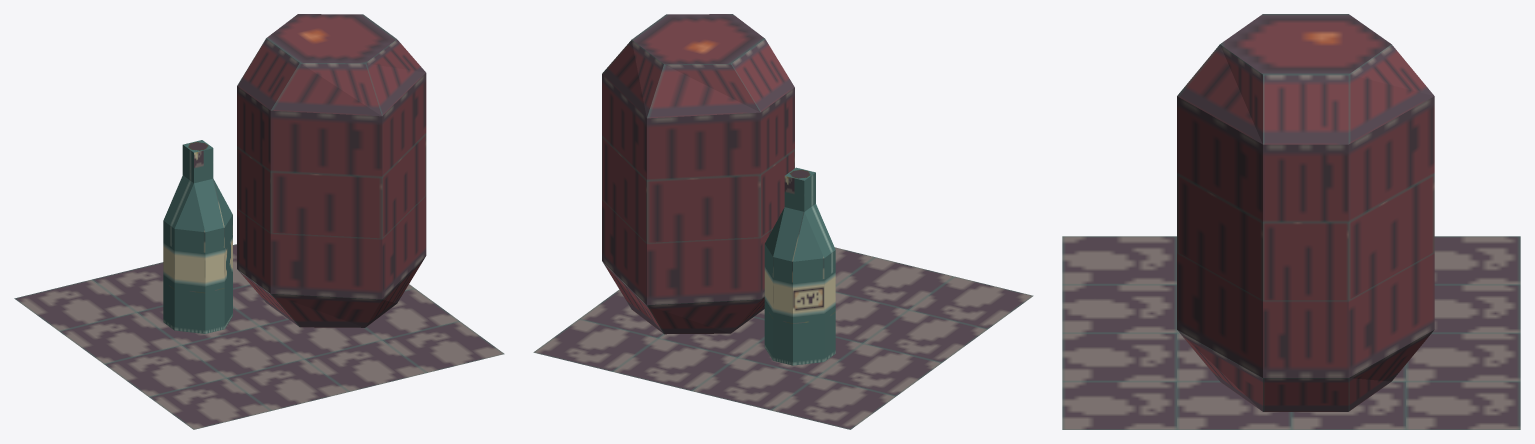
The model's file is tono.obj.
3 views of the same model, side by side, from view 1: azimuth 30°, elevation 25°; view 2: azimuth 150°, elevation 25°; view 3: azimuth 270°, elevation 25° (orthographic). The views are drawn at different scales.
Visible parts, largest first — view 1: tono; view 2: tono; view 3: tono.
Part boxes in pixels (x1=…): tono: x1=14, y1=14, x2=504, y2=429; tono: x1=533, y1=14, x2=1033, y2=429; tono: x1=1062, y1=14, x2=1520, y2=429.
Size of the model in its own units: 8 by 6.5 by 8.
